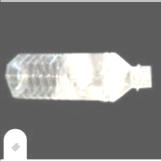bottle: (5, 49, 154, 105)
